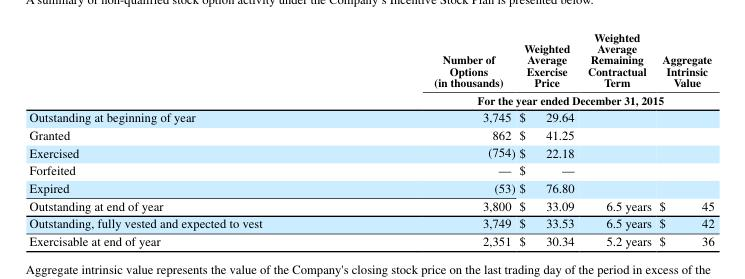table: (28, 28, 713, 248)
table column: (28, 28, 347, 248), (347, 28, 516, 248), (580, 28, 654, 248), (516, 28, 580, 248), (654, 28, 713, 248)
table column header: (28, 28, 713, 107)
table row: (28, 28, 713, 90), (28, 107, 713, 125), (28, 142, 713, 160), (28, 160, 713, 178), (28, 195, 713, 213), (28, 213, 713, 231), (28, 90, 713, 107), (28, 125, 713, 142), (28, 178, 713, 195), (28, 231, 713, 248)
table spanning cell: (347, 90, 713, 107)
